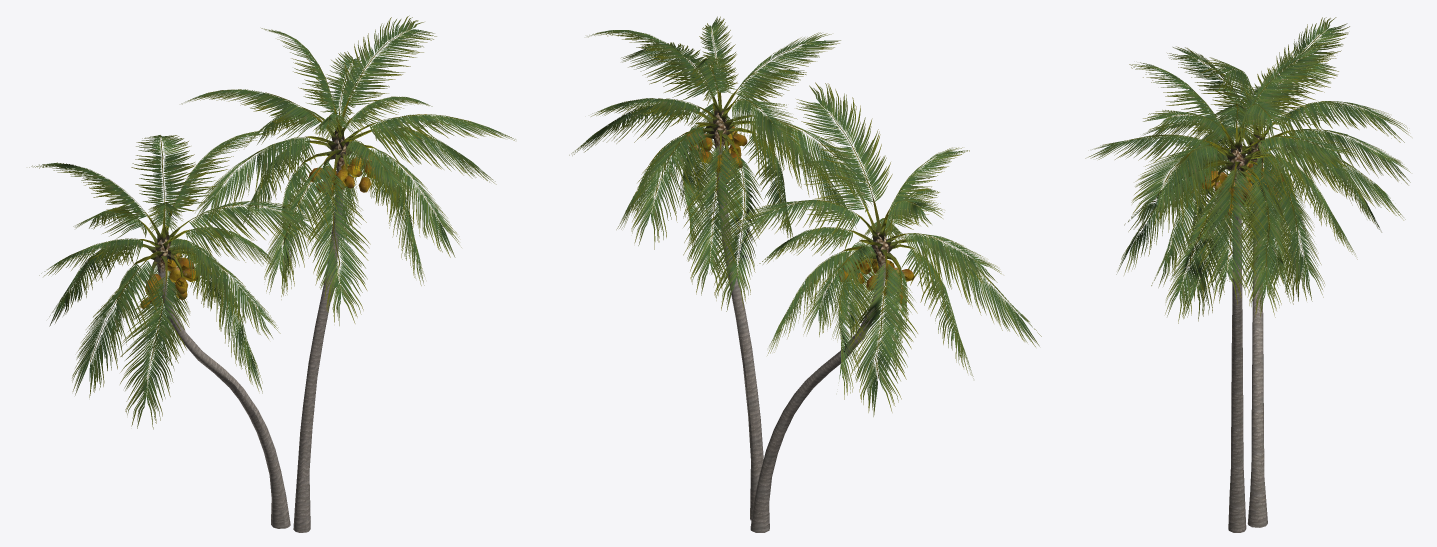
File: tree-palm.glb
The picture shows the model from 3 angles, left to right: view 1: azimuth 30°, elevation 25°; view 2: azimuth 150°, elevation 25°; view 3: azimuth 270°, elevation 25°; orthographic projection. The views are drawn at different scales.
Parts seen in each view (by area): view 1: tree-palm; view 2: tree-palm; view 3: tree-palm.
Part boxes in pixels (x1,y1,x2,y2): tree-palm: (29,15,515,532); tree-palm: (569,16,1041,532); tree-palm: (1085,17,1410,532).
Bounding box in the file's own units: 13.03 × 13 × 8.32.
Materials: 5 (5 with a texture image).
